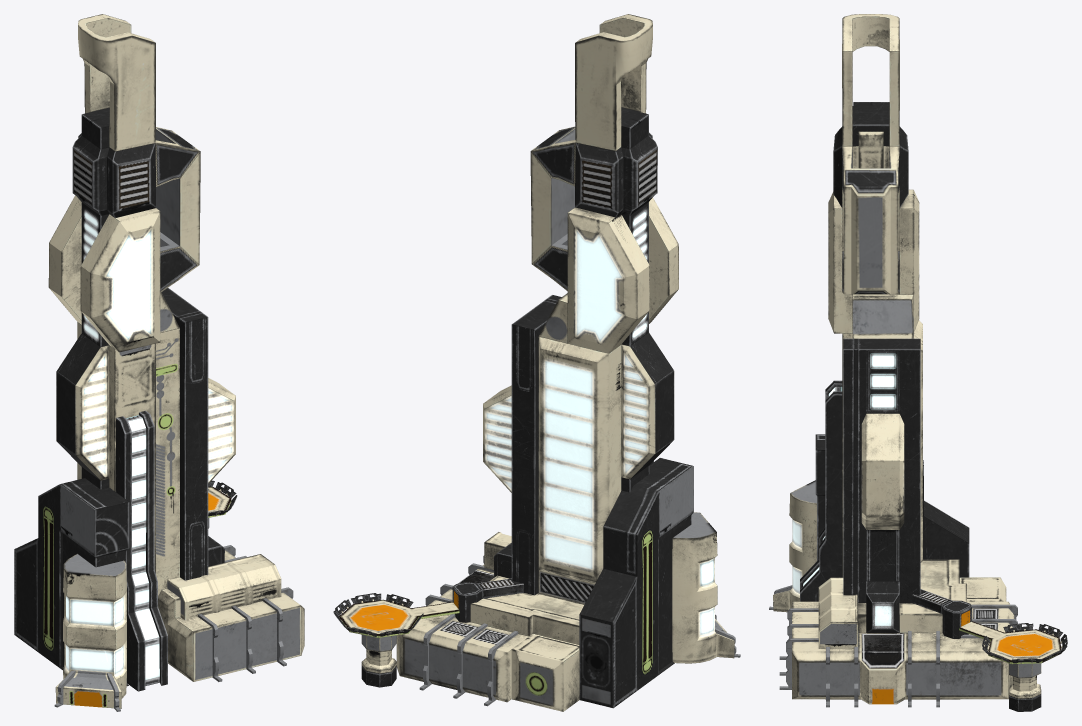
File: outpost_tower.glb
3 views of the same model, side by side, from view 1: azimuth 30°, elevation 25°; view 2: azimuth 150°, elevation 25°; view 3: azimuth 270°, elevation 25° (orthographic). The views are drawn at different scales.
Parts seen in each view (by area): view 1: Object001_02 - Default_0; view 2: Object001_02 - Default_0; view 3: Object001_02 - Default_0.
Boxes of the visible parts, bbox=[...] form: Object001_02 - Default_0: bbox=[14, 14, 304, 711]; Object001_02 - Default_0: bbox=[333, 14, 740, 711]; Object001_02 - Default_0: bbox=[769, 14, 1067, 711].
Size of the model in its own units: 3.8 by 8 by 3.58.
Materials: 1 (1 with a texture image).
